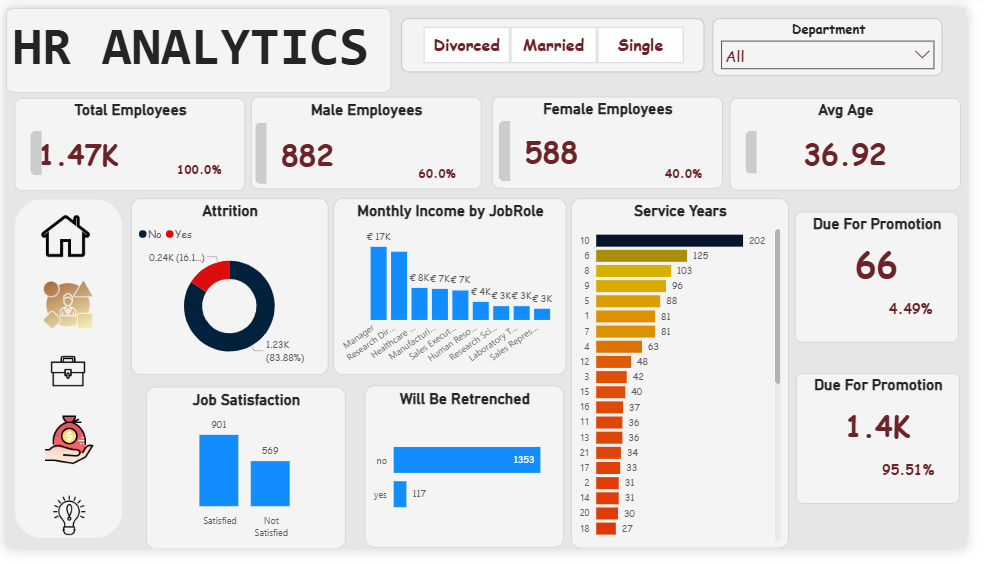

The dashboard page shown, as its layout file describes it:
{"tool":"powerbi","page":{"name":"Home Page","canvas":[1280,720],"ordinal":0},"visuals":[{"type":"textbox","box":[0,0,513.8,112.5],"z":0},{"type":"cardVisual","title":"Total Employees","fields":{"Data":["Table.total employee","measure cal.% total worker"]},"box":[12.4,119.7,307.1,124.2],"z":1000},{"type":"cardVisual","title":"Male Employees","fields":{"Data":["Table.male","measure cal.% male employees"]},"box":[327.5,118.6,307.1,123.1],"z":2000},{"type":"cardVisual","title":"Female Employees","fields":{"Data":["Table.Female","measure cal.% female emp"]},"box":[647.5,119,307,122.5],"z":3000},{"type":"cardVisual","title":"Avg Age","fields":{"Data":["measure cal.Avg Age"]},"box":[965.4,119.7,308.3,123.1],"z":4000},{"type":"slicer","fields":{"Values":["HR Analytics Data.MaritalStatus"]},"box":[526.2,12.5,405,72.5],"z":5000},{"type":"slicer","title":"Department","fields":{"Values":["HR Analytics Data.Department"]},"box":[941.2,12.5,307.5,77.5],"z":6000},{"type":"donutChart","title":"Attrition","fields":{"Category":["HR Analytics Data.Attrition"],"Y":["CountNonNull(HR employee data.EmployeeNumber)"]},"box":[166,254.1,263.1,236],"z":7000},{"type":"columnChart","title":"Monthly Income by JobRole","fields":{"Y":["Avg(HR Analytics Data.MonthlyIncome)"],"Category":["HR Analytics Data.JobRole"]},"box":[435.9,254.1,310.5,236],"z":8000},{"type":"barChart","title":"Service Years","fields":{"Category":["HR Analytics Data.TotalWorkingYears"],"Y":["measure cal.total emp"]},"box":[753.1,252.5,290.2,467.5],"z":9000},{"type":"cardVisual","title":"Due For Promotion","fields":{"Data":["measure cal.promotion due","measure cal.% due for promo"]},"box":[1051,271.7,218.5,174.5],"z":10000},{"type":"cardVisual","title":"Due For Promotion","fields":{"Data":["measure cal.Promotion Not Due","measure cal.% not due for promotion"]},"box":[1052.7,486.9,218.5,174.5],"z":11000},{"type":"columnChart","title":"Job Satisfaction","fields":{"Category":["HR Analytics Data.Job satisfaction"],"Y":["measure cal.total emp"]},"box":[187.4,504.3,266.5,215.7],"z":12000},{"type":"image","box":[37.7,452.6,88.9,64.6],"z":13000,"group":"g1"},{"type":"clusteredBarChart","title":"Will Be Retrenched","fields":{"Category":["data csv Retrenchment.Will Be Retrenched"],"Y":["measure cal.total emp"]},"box":[478.8,503.6,265.4,215.7],"z":13000},{"type":"shape","box":[12.4,255.2,143.4,451.7],"z":14000,"group":"g2"},{"type":"image","box":[37.7,363.7,88.9,64.6],"z":14000,"group":"g1"},{"type":"image","box":[40.4,643.8,88.9,64.6],"z":15000,"group":"g1"},{"type":"image","box":[40.4,544.2,88.9,64.6],"z":16000,"group":"g1"},{"type":"image","box":[35,272.1,88.9,64.6],"z":17000,"group":"g1"},{"type":"group","id":"g1","title":"Group 2","box":[35,272.1,94.3,436.4],"z":17002,"group":"g2"},{"type":"group","id":"g2","title":"Group 1","box":[12.4,255.2,143.4,453.2],"z":17003}]}

Visuals, with their boxes in screenshot pixels (x1, y1, x2, y2), scaled from the page's 1280x720 canvas onto the 984x564 screenshot:
textbox: detection(0, 0, 395, 88)
"Total Employees" cardVisual: detection(10, 94, 246, 191)
"Male Employees" cardVisual: detection(252, 93, 488, 189)
"Female Employees" cardVisual: detection(498, 93, 734, 189)
"Avg Age" cardVisual: detection(742, 94, 979, 190)
slicer - HR Analytics Data.MaritalStatus: detection(405, 10, 716, 67)
"Department" slicer: detection(724, 10, 960, 70)
"Attrition" donutChart: detection(128, 199, 330, 384)
"Monthly Income by JobRole" columnChart: detection(335, 199, 574, 384)
"Service Years" barChart: detection(579, 198, 802, 563)
"Due For Promotion" cardVisual: detection(808, 213, 976, 350)
"Due For Promotion" cardVisual: detection(809, 381, 977, 518)
"Job Satisfaction" columnChart: detection(144, 395, 349, 563)
image: detection(29, 355, 97, 405)
"Will Be Retrenched" clusteredBarChart: detection(368, 394, 572, 563)
shape: detection(10, 200, 120, 554)
image: detection(29, 285, 97, 336)
image: detection(31, 504, 99, 555)
image: detection(31, 426, 99, 477)
image: detection(27, 213, 95, 264)
"Group 2" group: detection(27, 213, 99, 555)
"Group 1" group: detection(10, 200, 120, 555)
